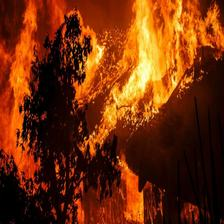fire: (7, 4, 221, 177)
